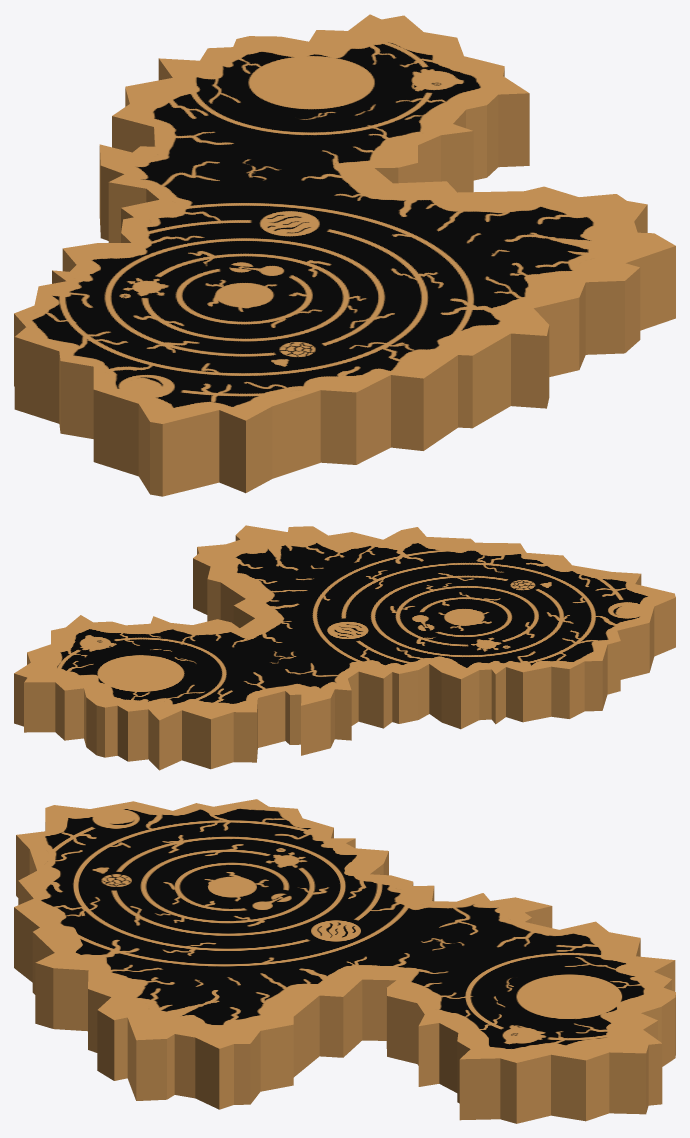
Rendered from MuseumPlate.fbx.
3 renders of one model, top to bottom at view 1: azimuth 30°, elevation 25°; view 2: azimuth 150°, elevation 25°; view 3: azimuth 270°, elevation 25°, orthographic. The views are drawn at different scales.
Parts seen in each view (by area): view 1: Plane; view 2: Plane; view 3: Plane.
Boxes of the visible parts, x1,y1,x2,y2 form: Plane: (14,14,675,496); Plane: (14,525,675,770); Plane: (14,799,675,1123).
Bounding box in the file's own units: 465 × 50 × 493.
